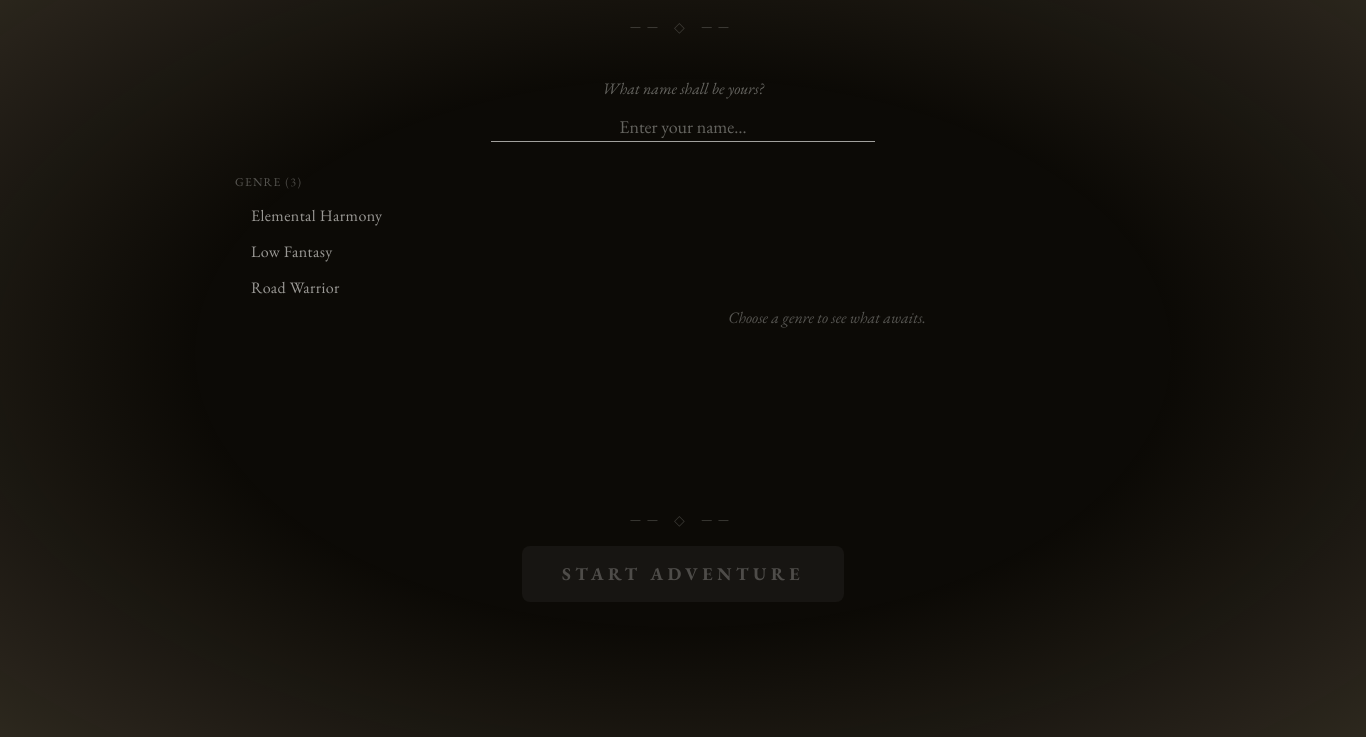
it: AC-4: complete transitions to game view › integrates character into GameState after completion
Type "TestHero" into the field named "player name".
click(683, 128); type("TestHero")  # box [491,113,875,142]
Wait 100 ms
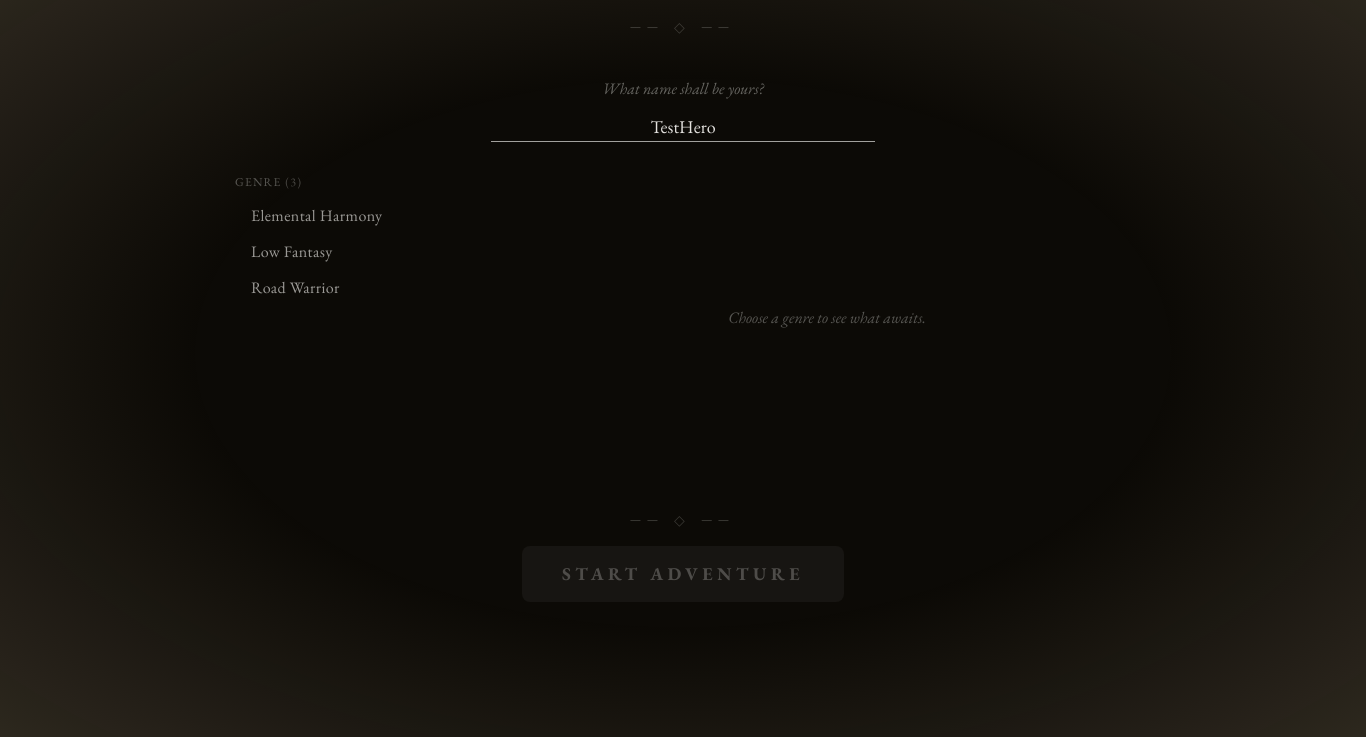
Click the radio button labelled "Low Fantasy".
click(358, 252)  # box [235,234,481,270]
Wait 100 ms
(page scrolled)
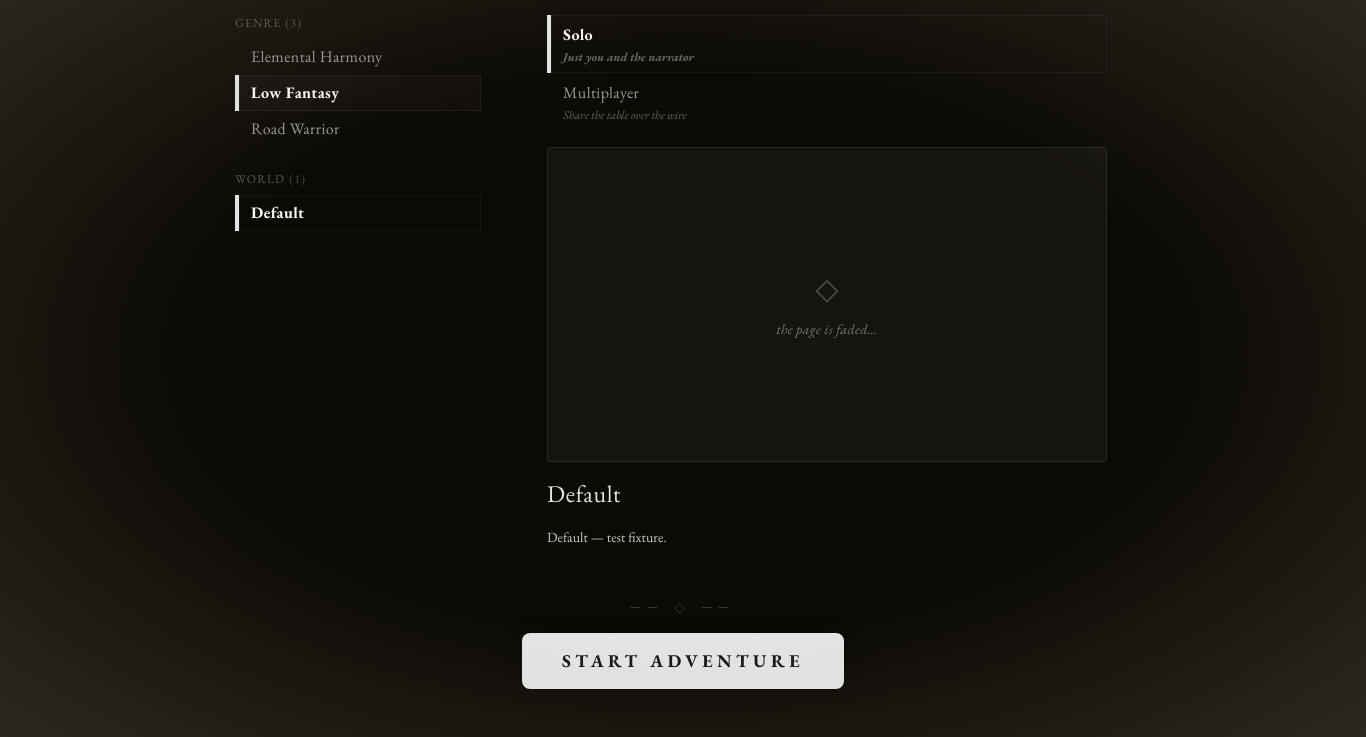
Click the button "Start Adventure".
click(683, 661)  # box [522,633,844,689]
Wait 1200 ms
(page scrolled)
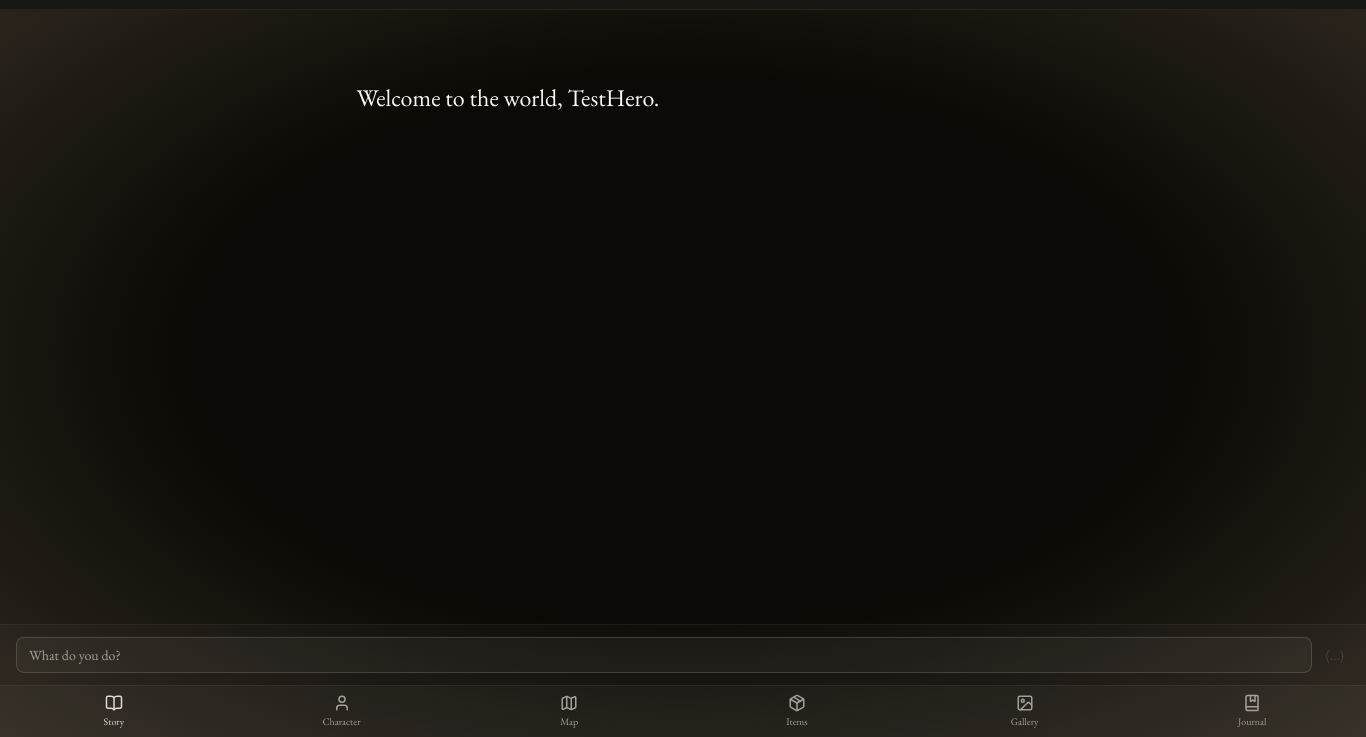
Expected: the text "Welcome to the world, TestHero." is shown, [357,82,659,113]
